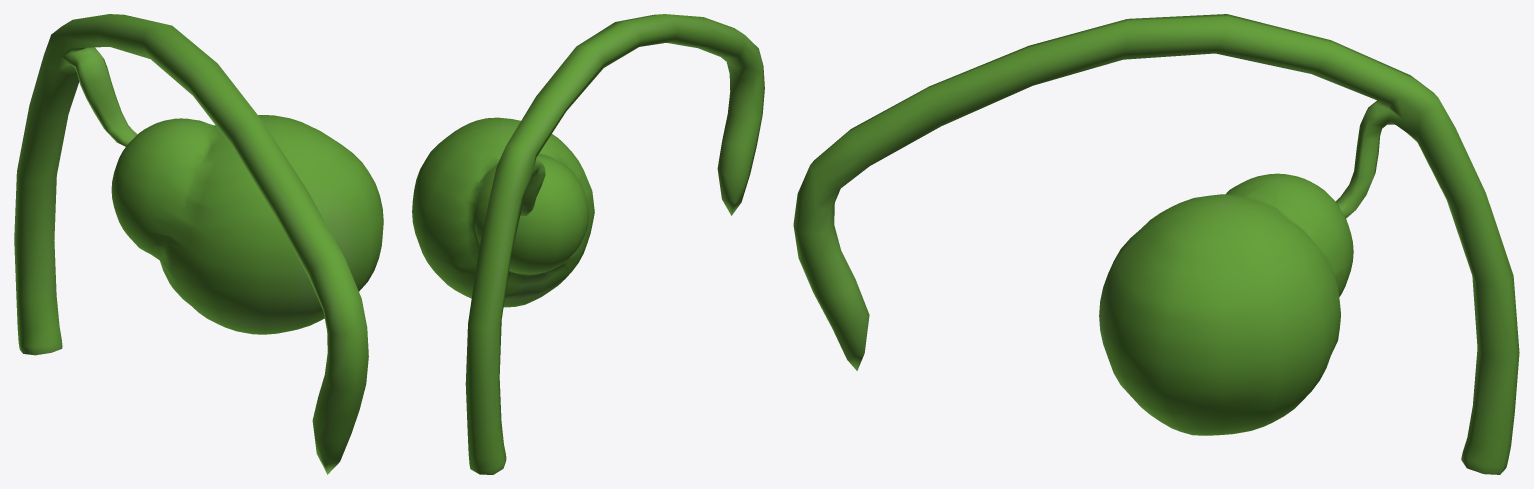
The model's file is gllaber.fbx.
3 views of the same model, side by side, from view 1: azimuth 30°, elevation 25°; view 2: azimuth 150°, elevation 25°; view 3: azimuth 270°, elevation 25° (orthographic). The views are drawn at different scales.
Visible parts, largest first — view 1: pCube3; view 2: pCube3; view 3: pCube3.
Part boxes in pixels (bbox=[...]): pCube3: bbox=[14, 14, 383, 474]; pCube3: bbox=[412, 14, 764, 474]; pCube3: bbox=[793, 14, 1519, 474].
Bounding box in the file's own units: 0.9576 × 1.72 × 2.51.
1 material, 1 textured.
